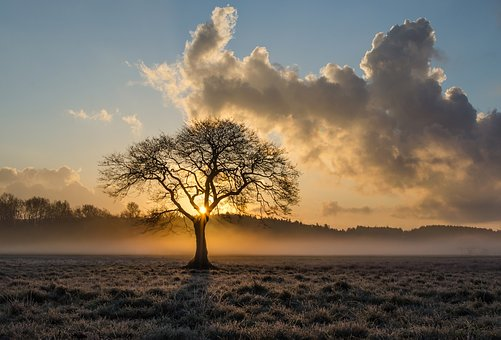field: (10, 247, 498, 338)
sky: (6, 7, 501, 215)
tree: (119, 116, 292, 258)
